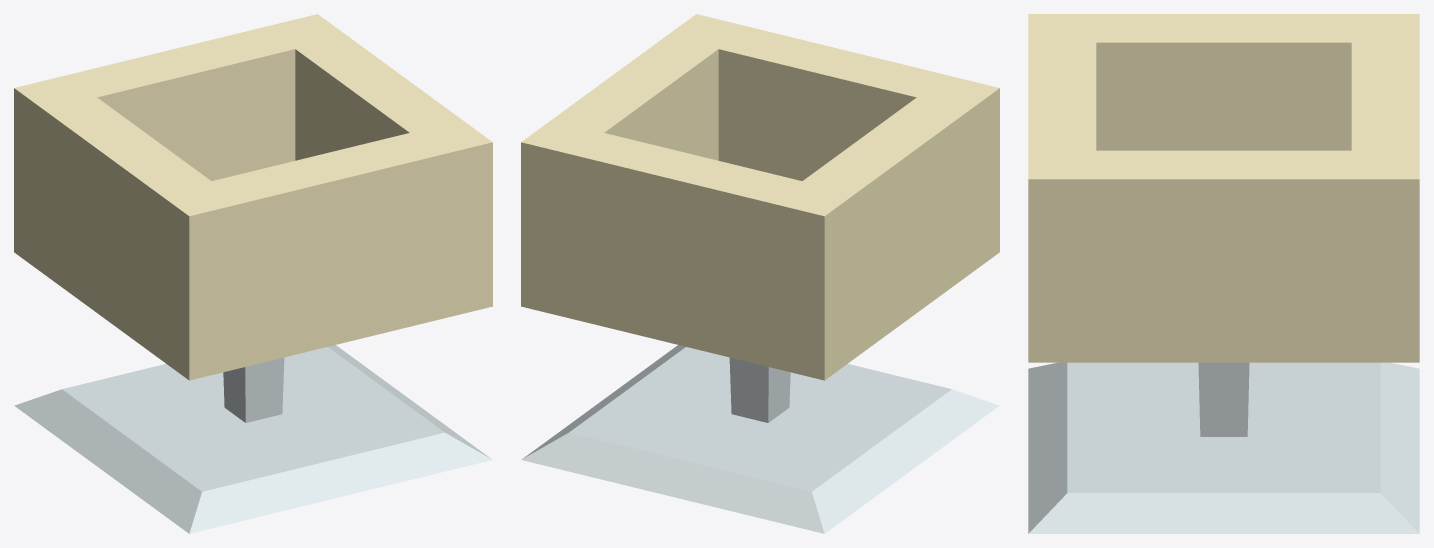
The model's file is kn-lamp-square-table.glb.
3 views of the same model, side by side, from view 1: azimuth 30°, elevation 25°; view 2: azimuth 150°, elevation 25°; view 3: azimuth 270°, elevation 25° (orthographic). The views are drawn at different scales.
Visible parts, largest first — view 1: lampSquareTable(Clone); view 2: lampSquareTable(Clone); view 3: lampSquareTable(Clone).
Boxes of the visible parts, bbox=[...] form: lampSquareTable(Clone): bbox=[14, 14, 492, 533]; lampSquareTable(Clone): bbox=[521, 14, 999, 533]; lampSquareTable(Clone): bbox=[1028, 14, 1419, 533].
Size of the model in its own units: 1 by 1 by 1.
